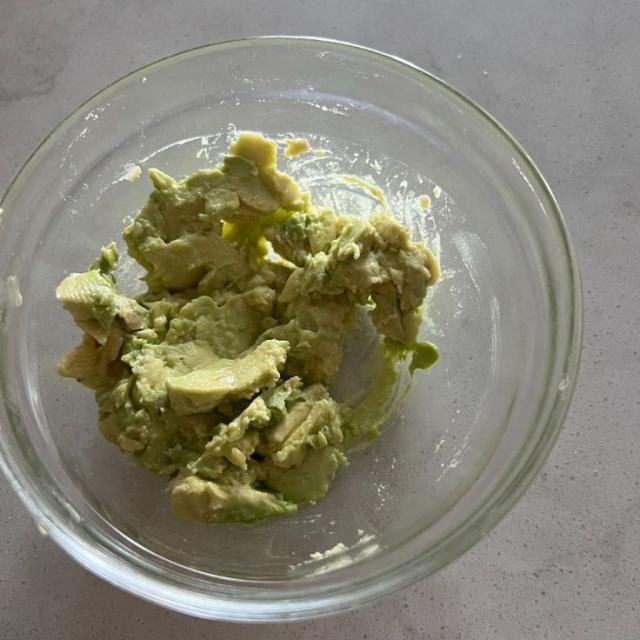avocado: (57, 132, 438, 523)
